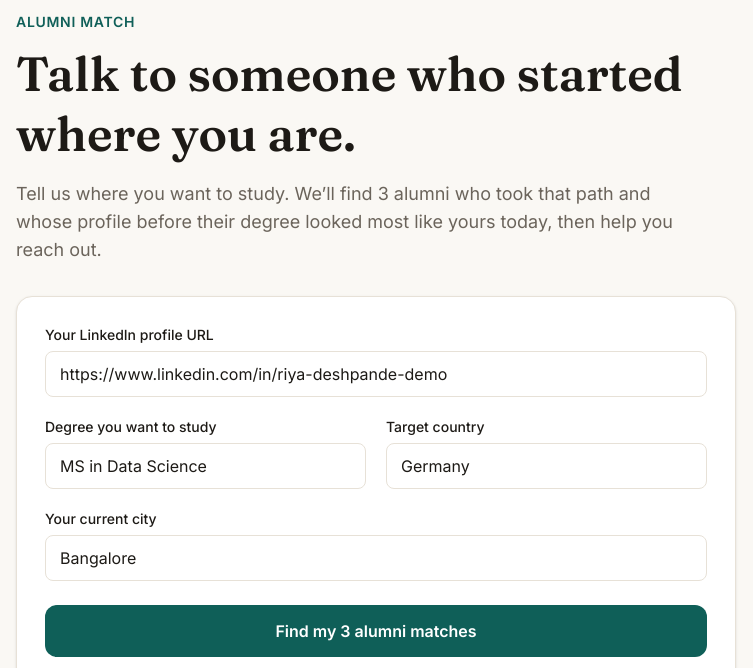
search form › empty fields each get their own error
Clear the field labelled "Your LinkedIn profile URL" at (376, 374), box [45,351,707,397]
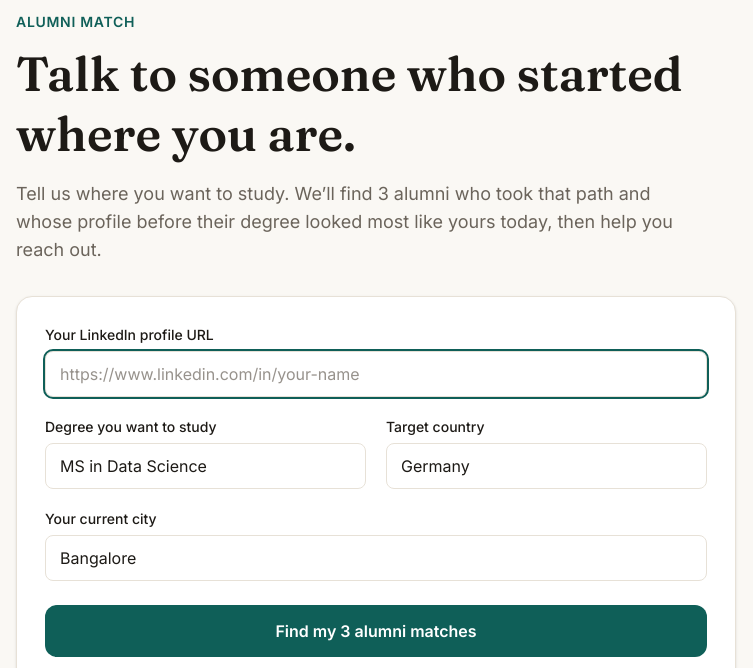
Clear the field labelled "Degree you want to study" at (206, 466), box [45,443,366,489]
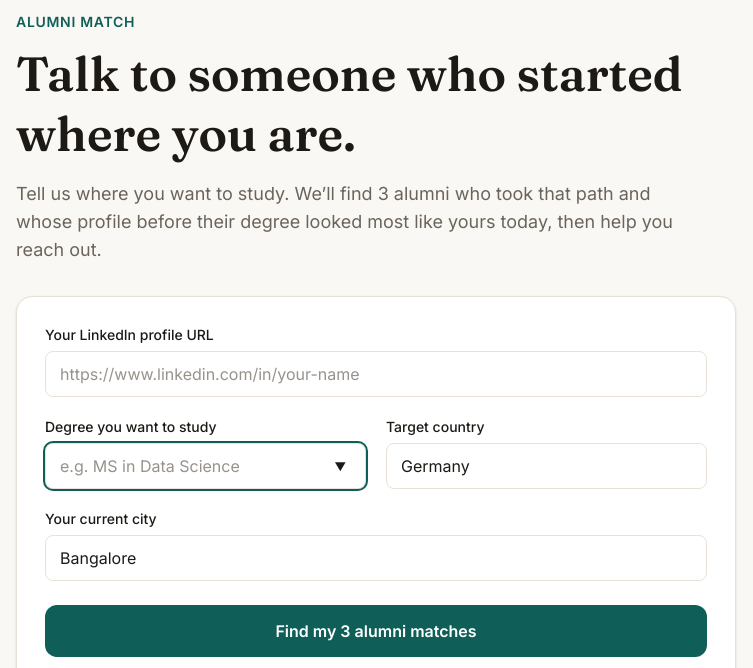
Clear the field labelled "Target country" at (546, 466), box [386,443,707,489]
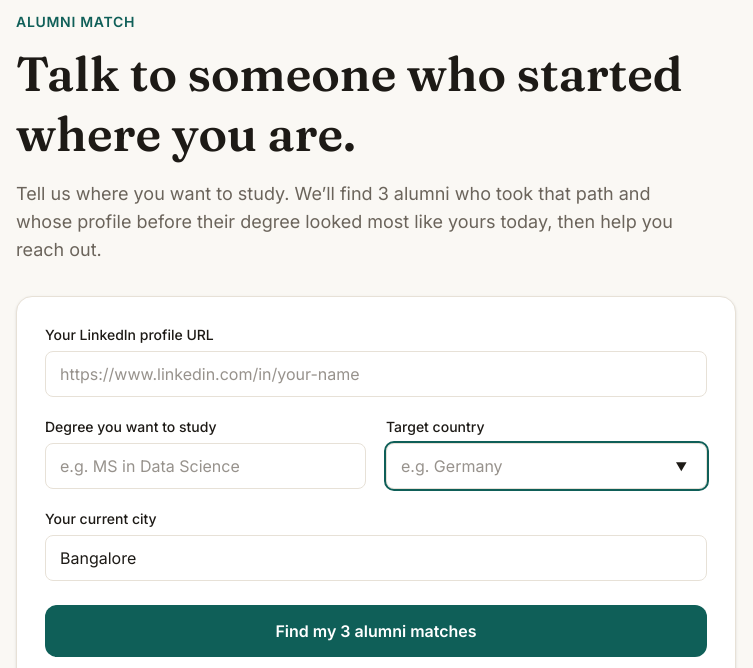
Clear the field labelled "Your current city" at (376, 558), box [45,535,707,581]
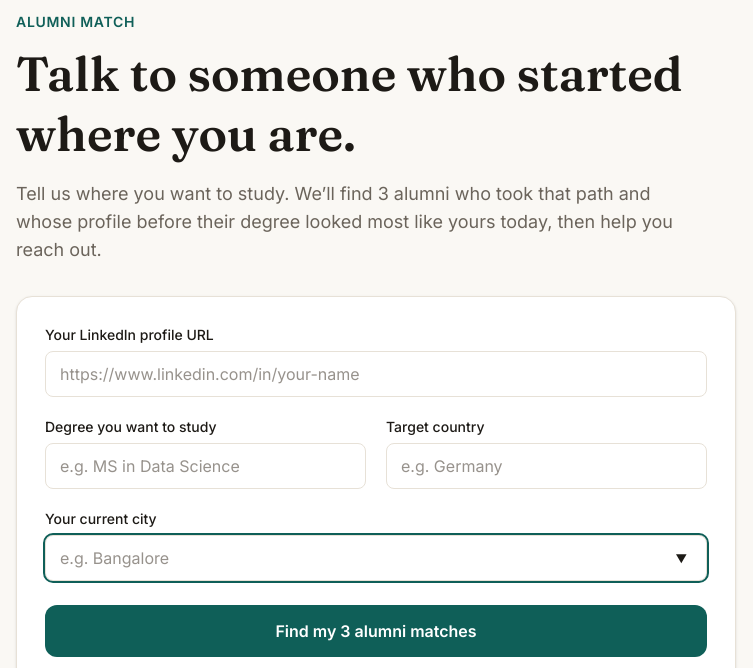
Click the button "Find my 3 alumni matches" at (376, 631), box [45,605,707,657]
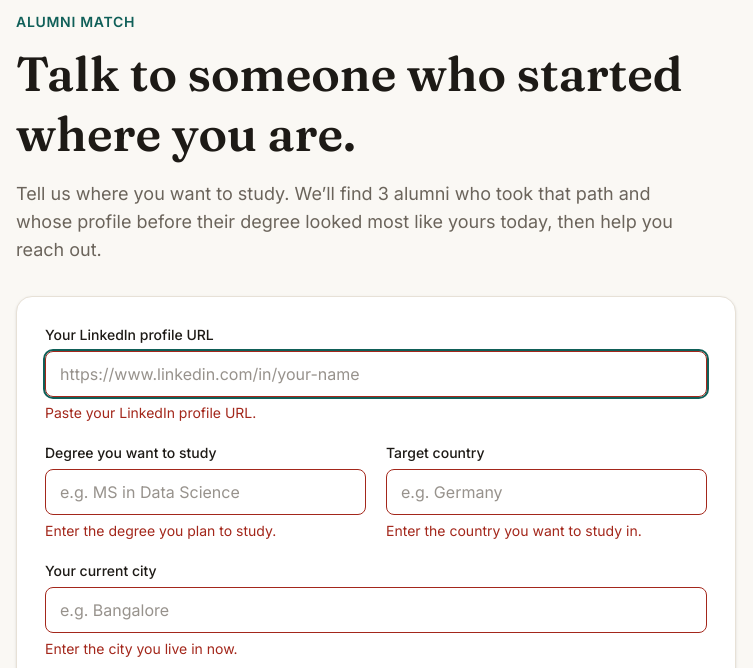
Check: the text "Paste your LinkedIn profile URL." is shown, box [45,404,256,421]
Check: the text "Enter the degree you plan to study." is shown, box [45,522,276,539]
Check: the text "Enter the country you want to study in." is shown, box [386,522,642,539]
